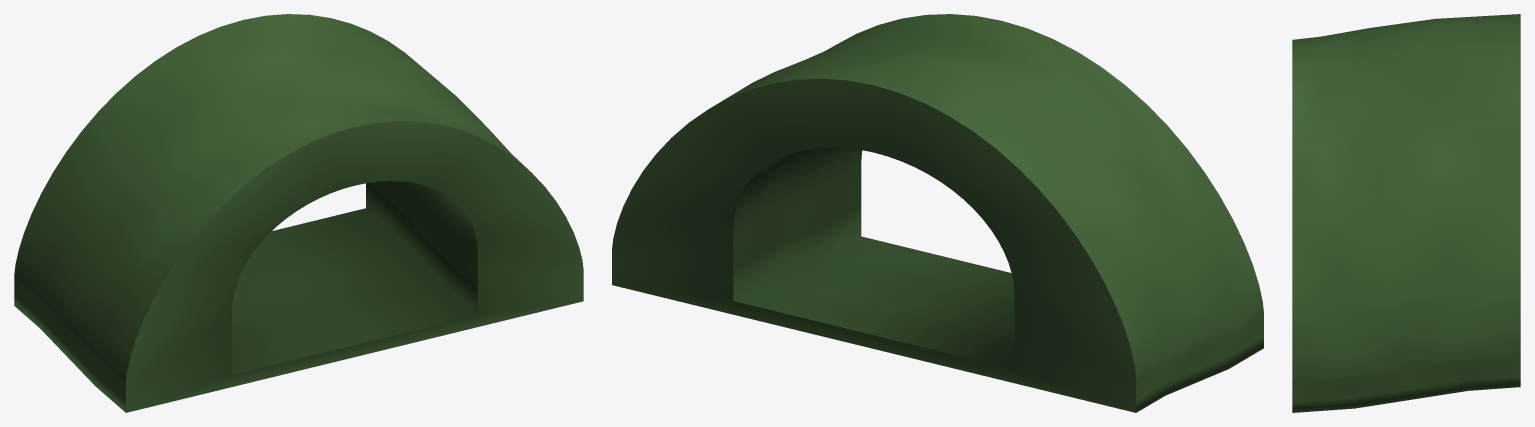
File: grade_up_terrain_lod1.glb
3 views of the same model, side by side, from view 1: azimuth 30°, elevation 25°; view 2: azimuth 150°, elevation 25°; view 3: azimuth 270°, elevation 25° (orthographic). The views are drawn at different scales.
Parts seen in each view (by area): view 1: TerrainRoof.013; view 2: TerrainRoof.013; view 3: TerrainRoof.013.
Boxes of the visible parts, <box> form: TerrainRoof.013: <box>14,14,583,412</box>; TerrainRoof.013: <box>612,14,1263,412</box>; TerrainRoof.013: <box>1292,14,1520,412</box>.
Bounding box in the file's own units: 28.4 × 15.15 × 12.
